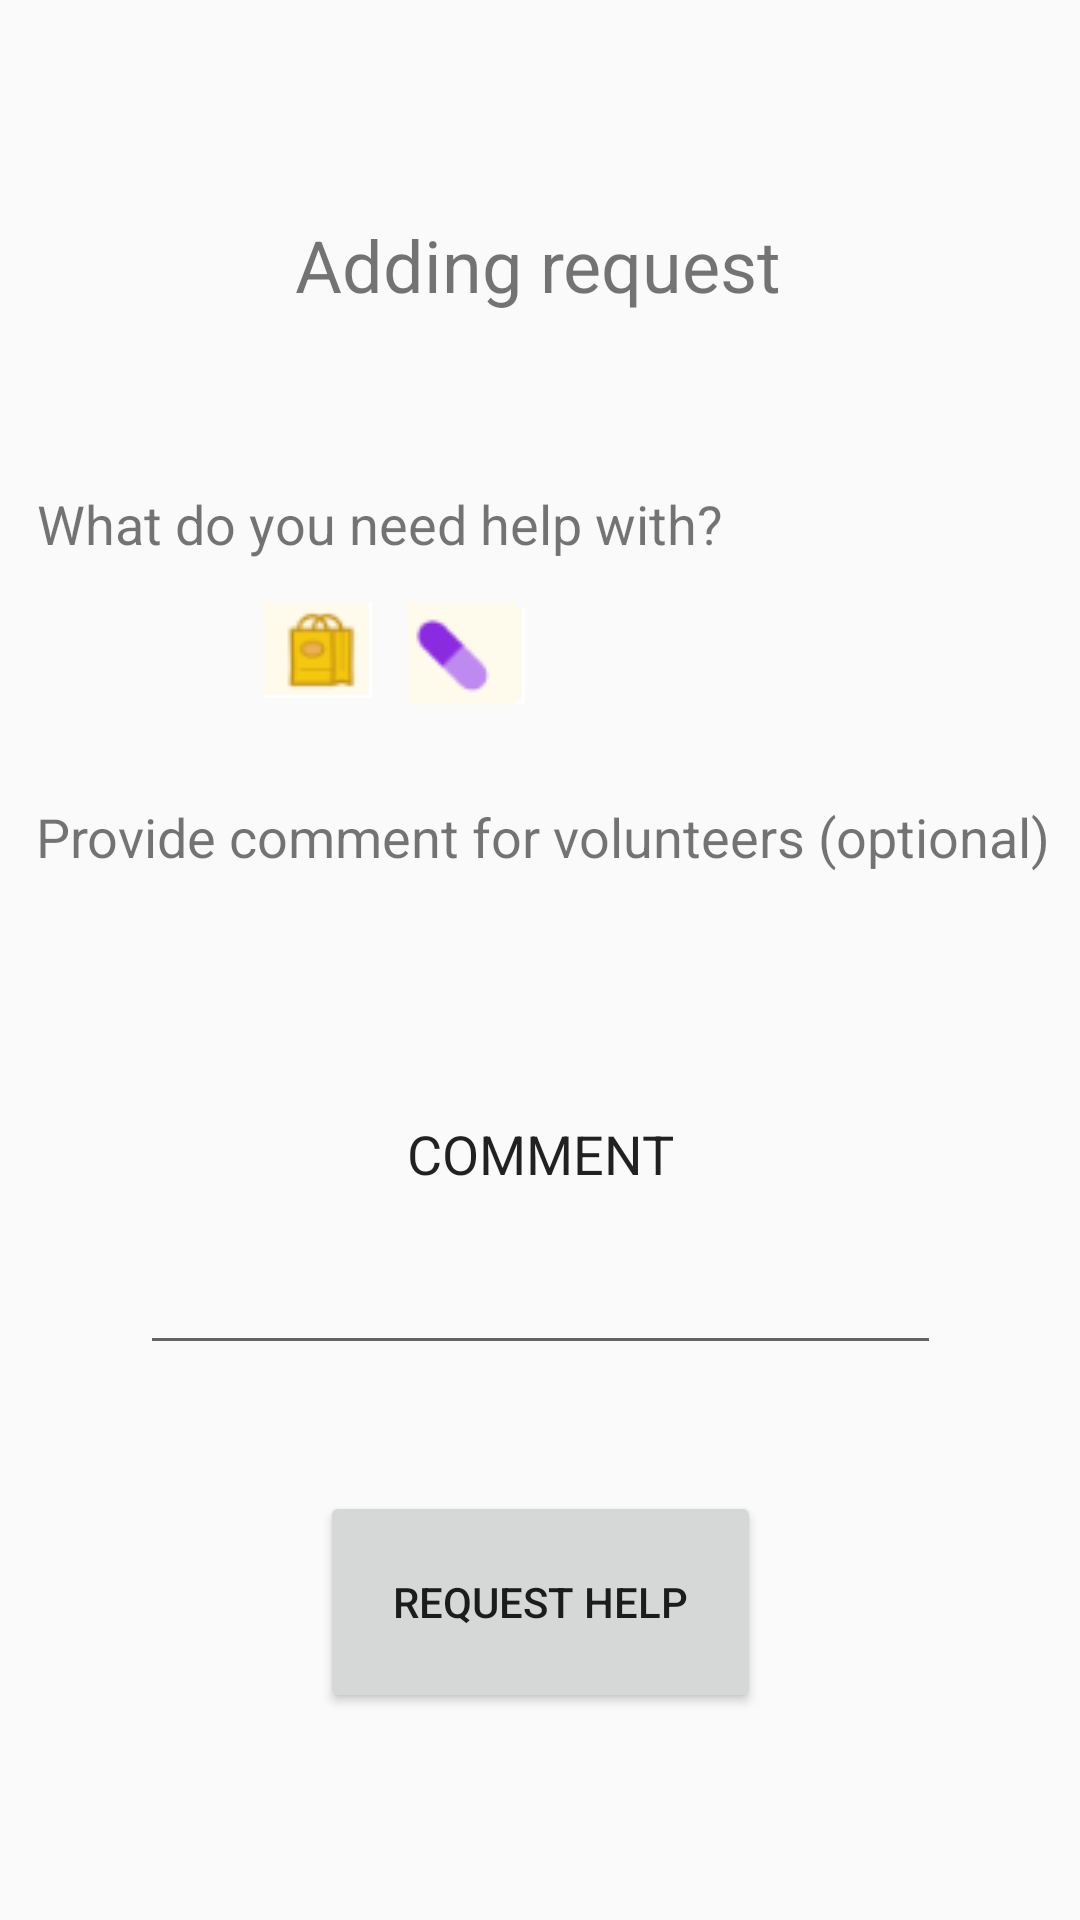

Named icons in this screenshot (1080 × 1920) and their bounding boxes, {"left": x1, "top": y1, "right": x2, "bottom": y2}:
shop: {"left": 287, "top": 611, "right": 357, "bottom": 690}
